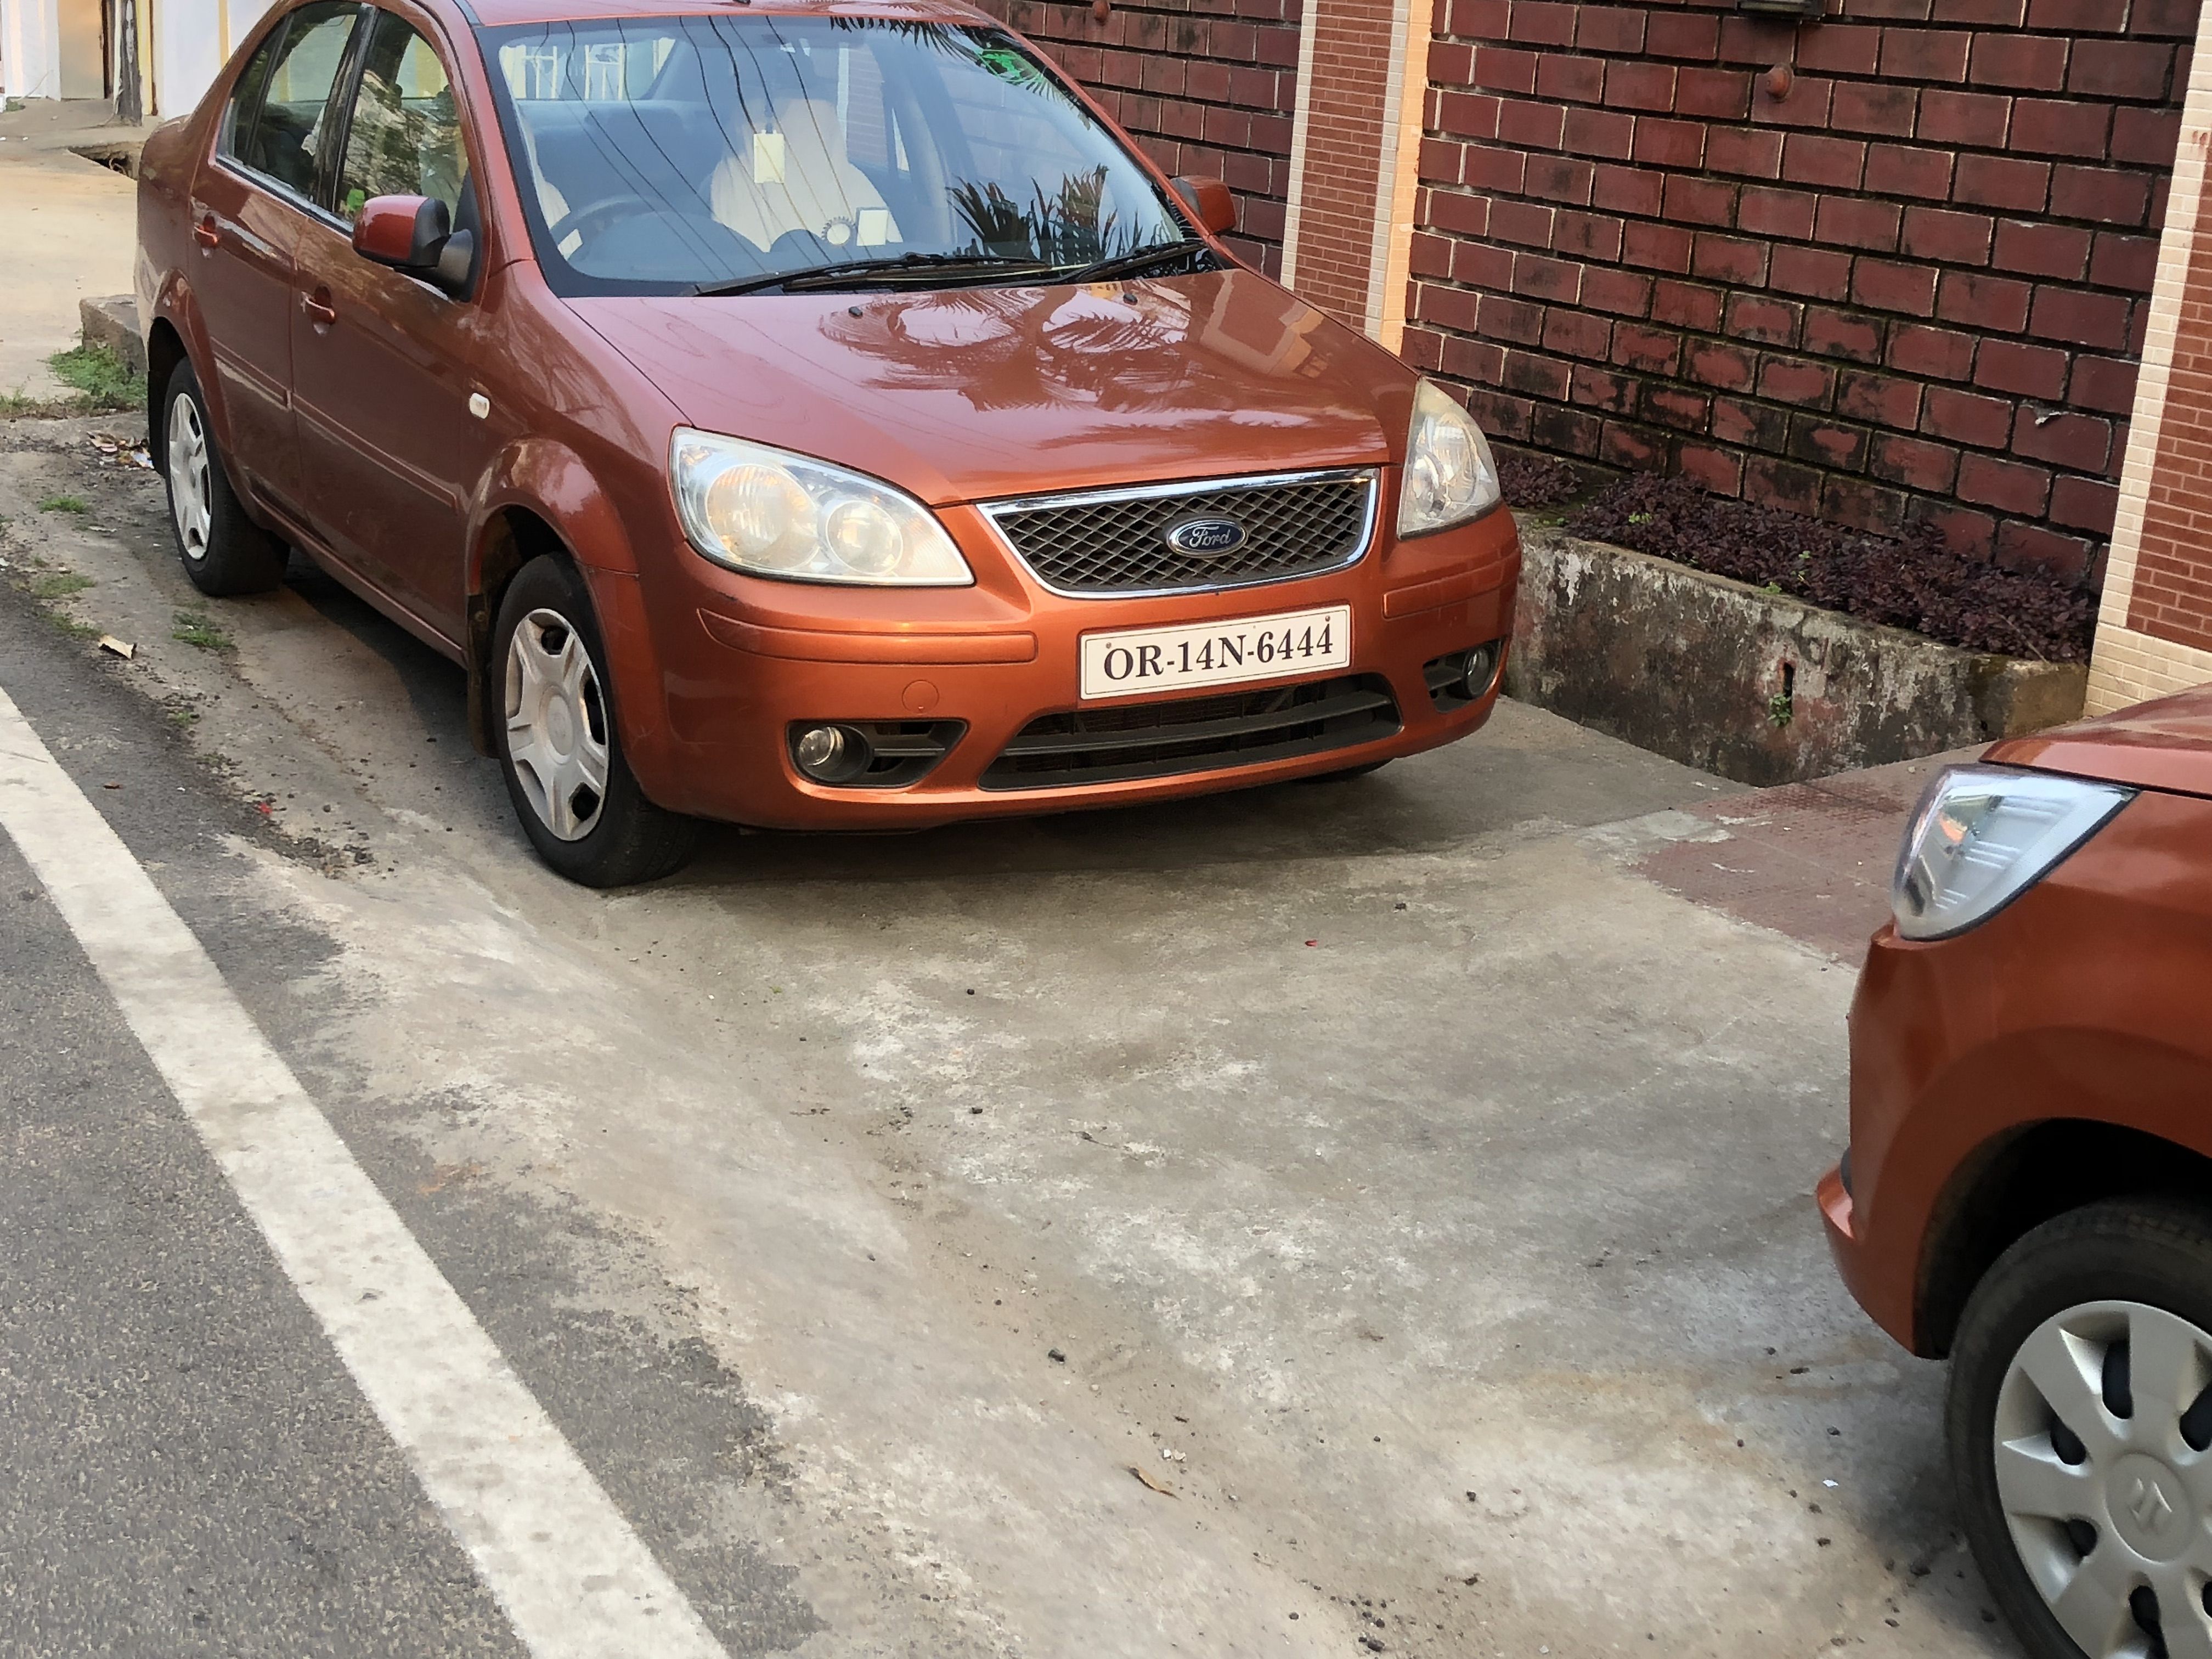licenseplate: (1063, 608, 1367, 709)
